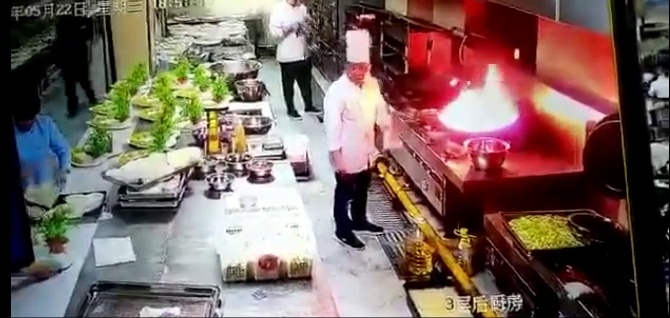fire: (445, 66, 519, 131)
